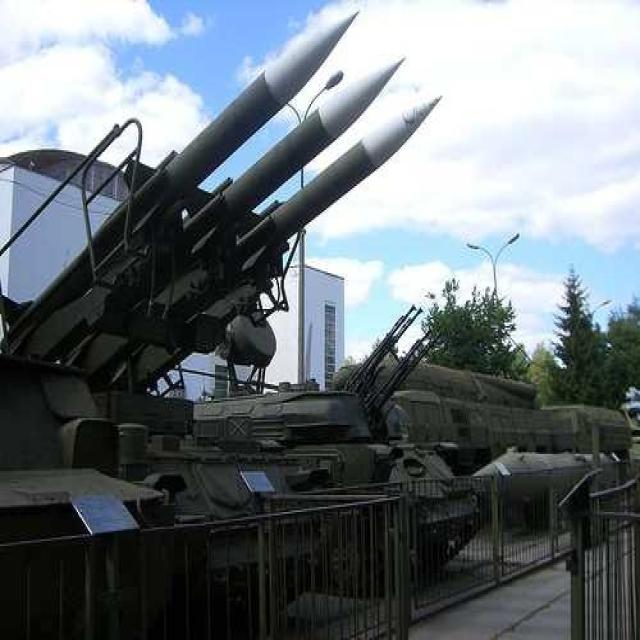missile: (17, 11, 358, 354), (189, 55, 411, 226), (245, 92, 442, 254)
